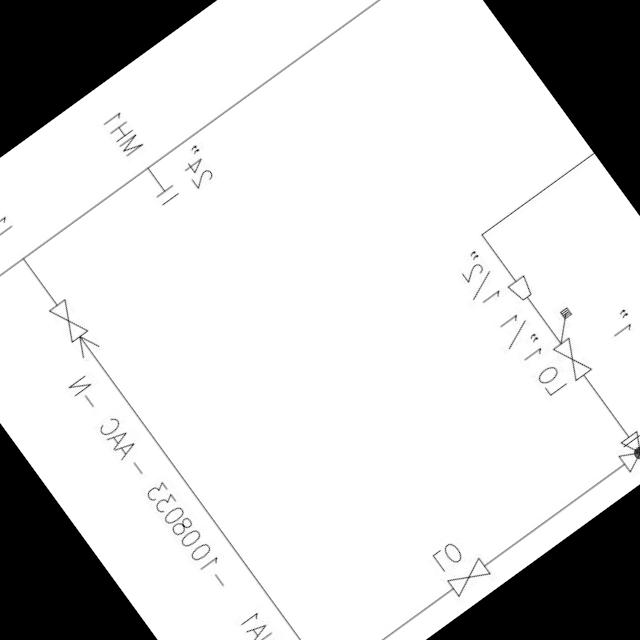GV: (40, 292, 94, 350), (441, 552, 497, 602), (548, 333, 598, 387)
RPV: (600, 381, 640, 482)
SP: (502, 272, 538, 308)
